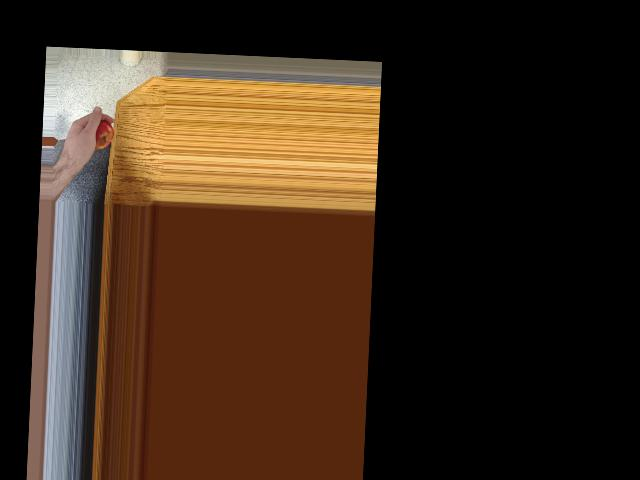apple: (85, 118, 114, 153)
